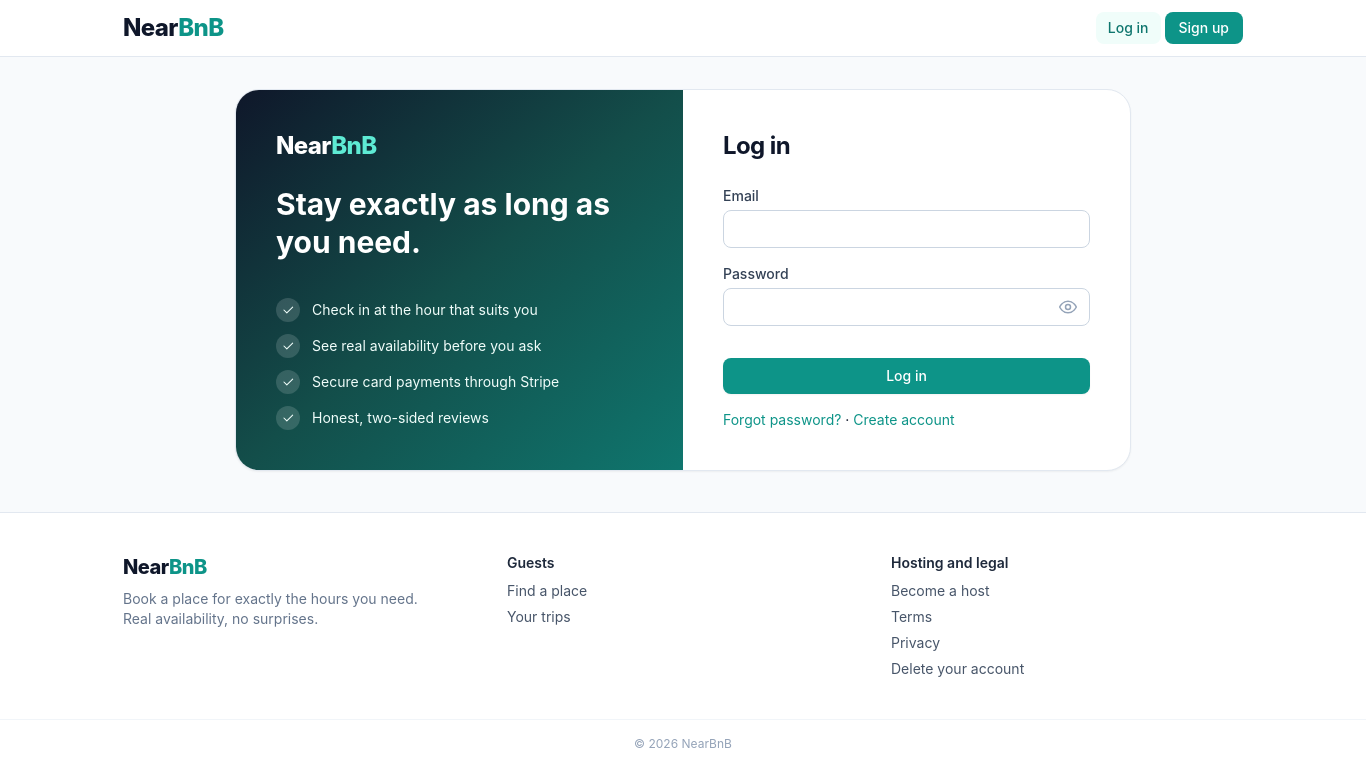
Test case: login and logout update the screen without a page refresh › shows the user's name right after login
Check: the link "Log in" is shown, box [1096,12,1160,44]
Type "alice@example.com" into the field labelled "Email" at point(906, 229), box [723,210,1090,248]
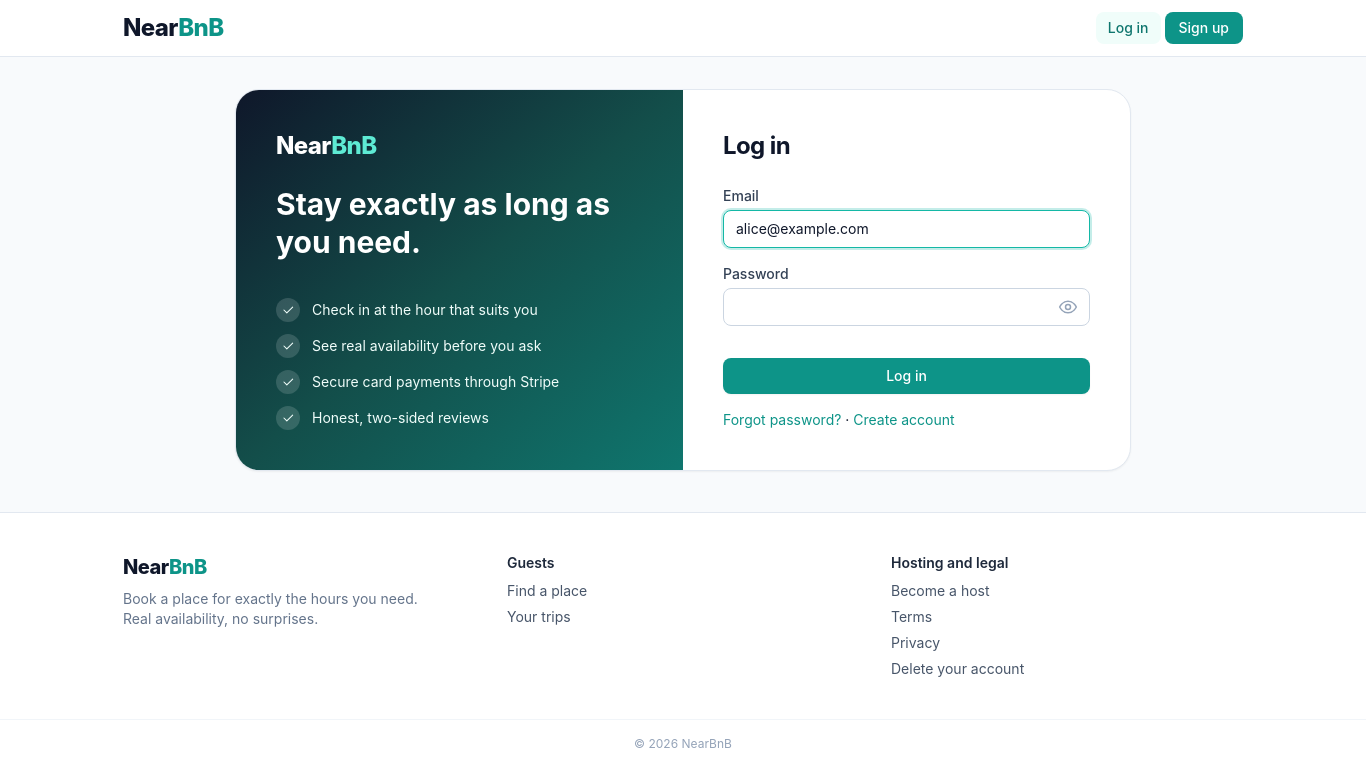
Type "whatever-password" into the password field labelled "Password" at point(906, 307), box [723,288,1090,326]
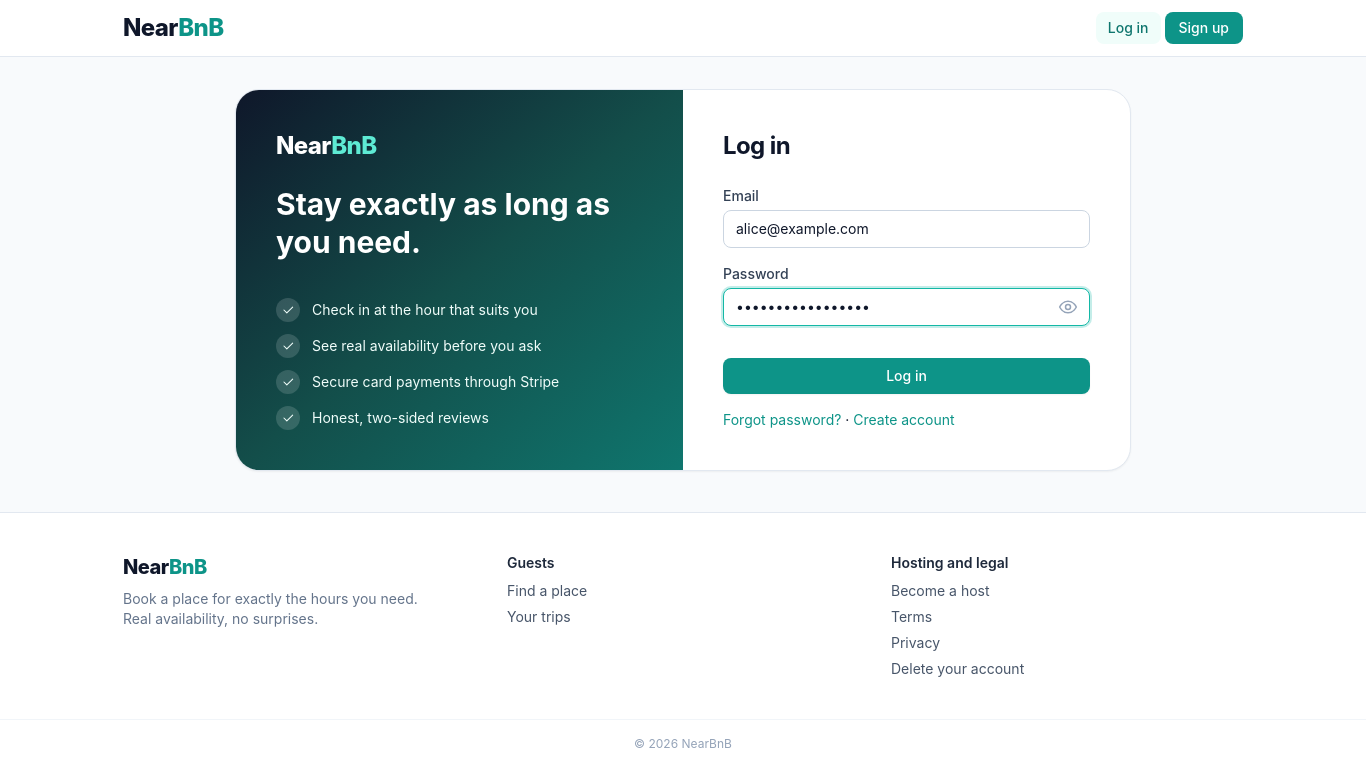
Click the button "Log in" at point(906, 376), box [723,358,1090,394]
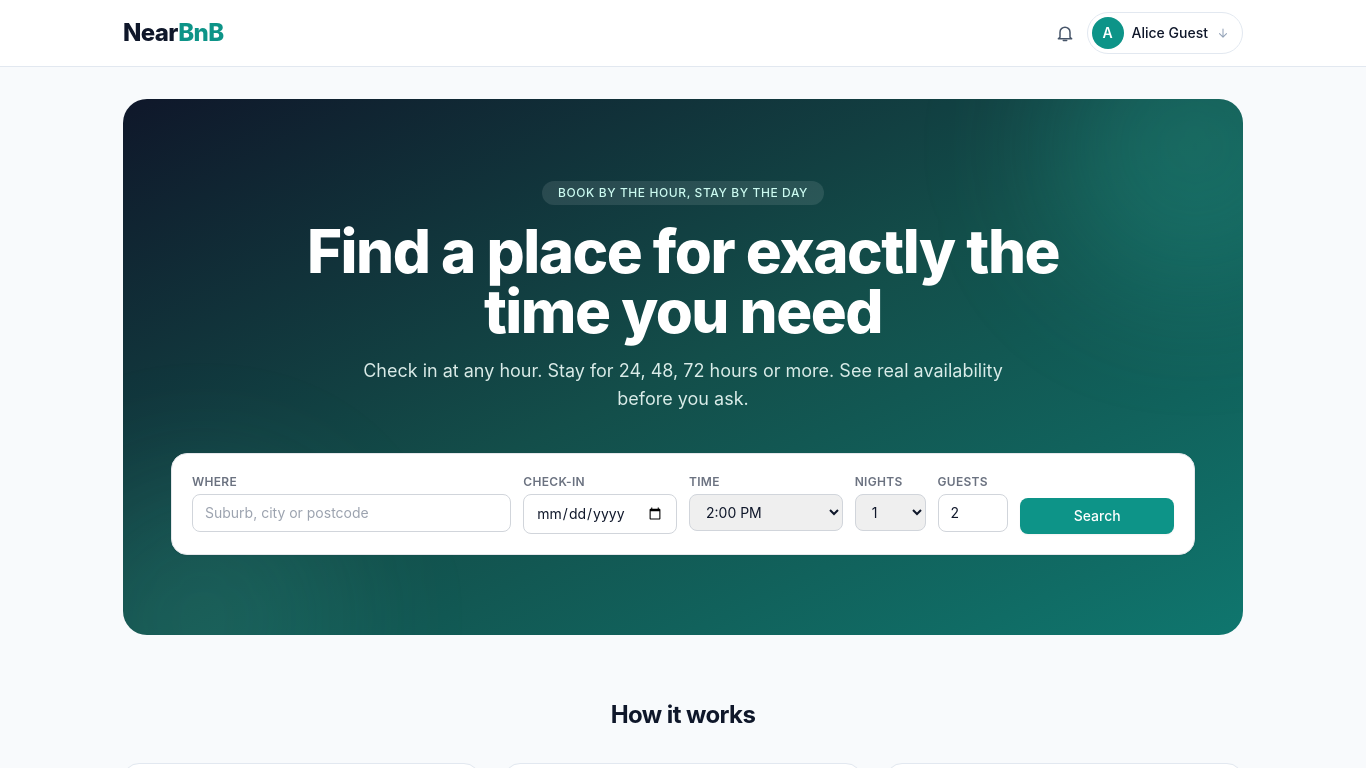
Check: the button with aria-label "Account menu" is shown, box [1087,12,1243,54]
Check: the text "Alice Guest" is shown, box [1132,23,1208,43]
Check: the link "Log in" is gone
